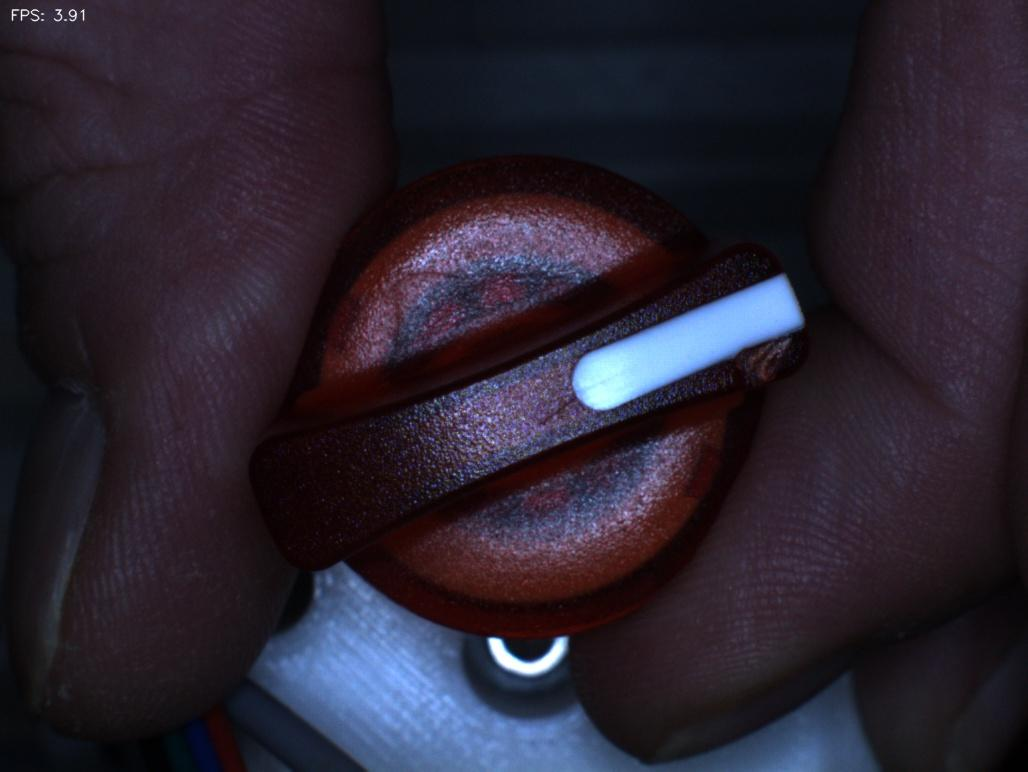Choc: (720, 316, 816, 409)
